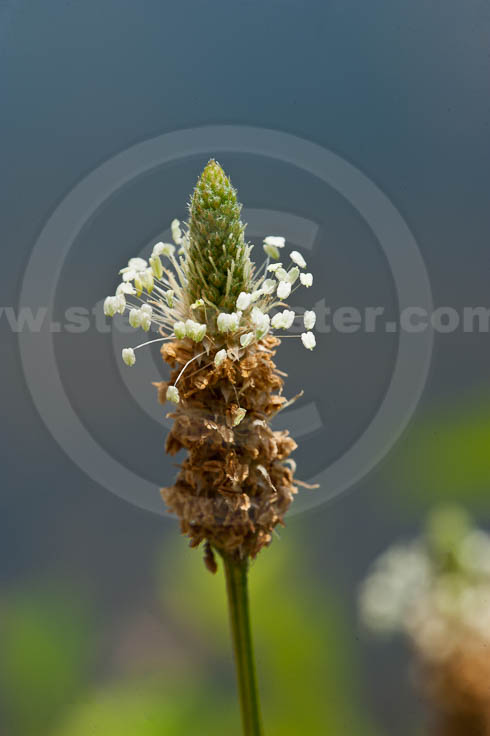buckhorn plantain: (121, 156, 353, 718)
